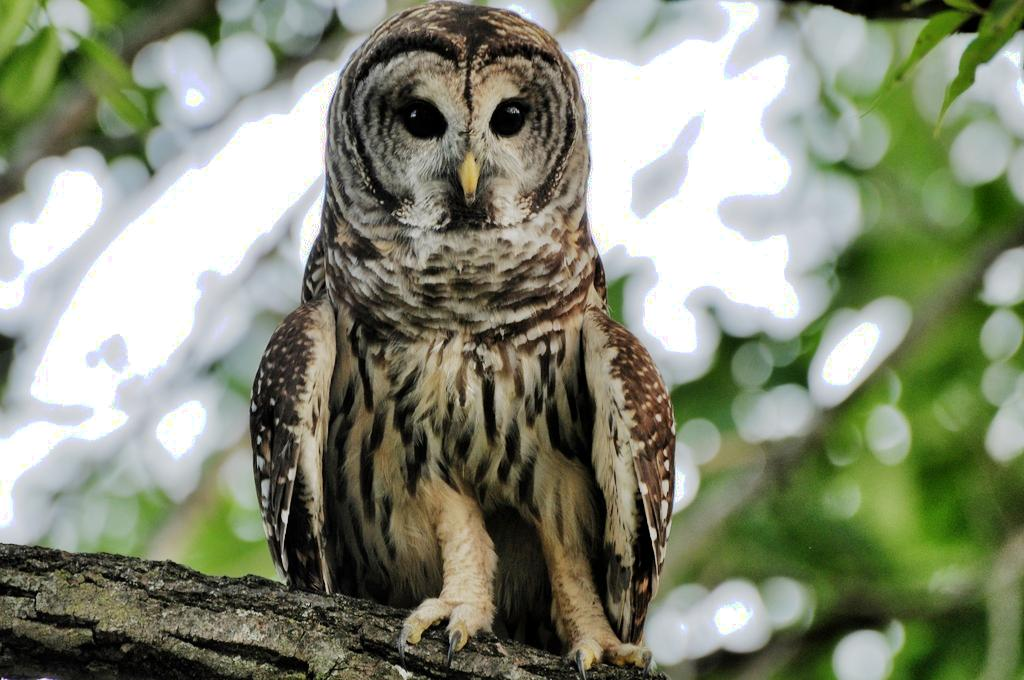Owl: (248, 0, 686, 680)
